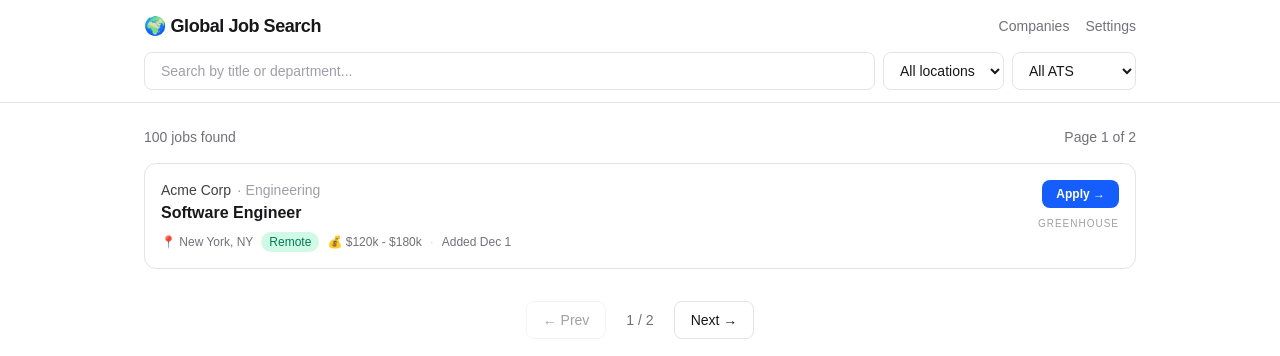
it: JobSearch pagination › Next button is disabled on the last page
The width and height of the screenshot is (1280, 356).
Click the button "Next →" at (714, 320), box [674,301,754,339]
Wait 50 ms
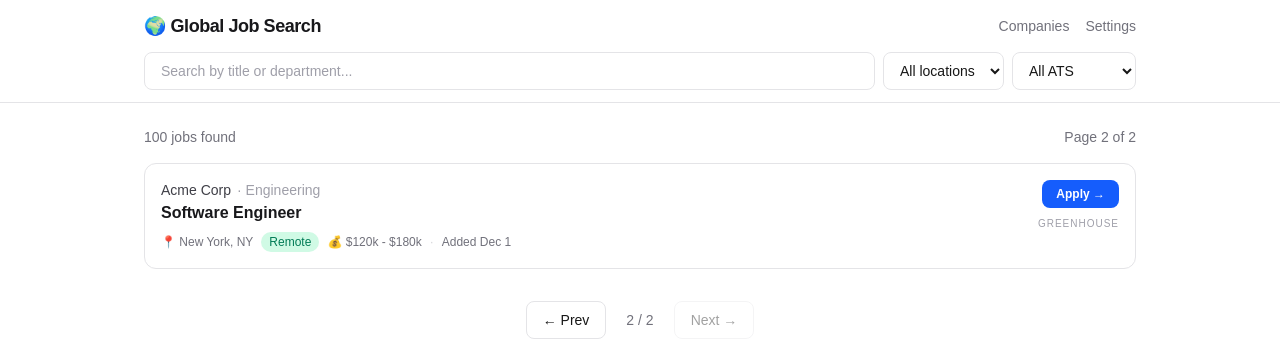
Check: the button "Next →" is disabled, box [674,301,754,339]
